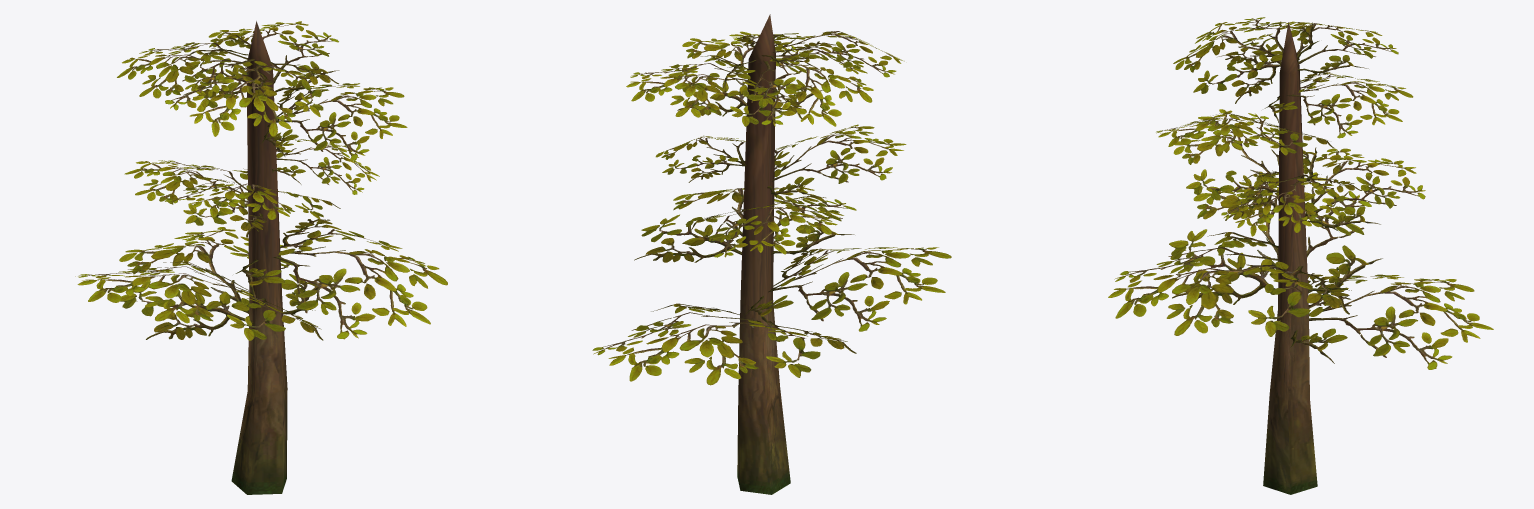
File: environment_Tree_yellow_003_a.FBX
The picture shows the model from 3 angles, left to right: view 1: azimuth 30°, elevation 25°; view 2: azimuth 150°, elevation 25°; view 3: azimuth 270°, elevation 25°; orthographic projection. The views are drawn at different scales.
Parts seen in each view (by area): view 1: environment_Tree_yellow_003_a, environment_Tree_yellow_003_b; view 2: environment_Tree_yellow_003_a, environment_Tree_yellow_003_b; view 3: environment_Tree_yellow_003_a, environment_Tree_yellow_003_b.
Part boxes in pixels (x1,y1,x2,y2): environment_Tree_yellow_003_a: (75, 21, 447, 340); environment_Tree_yellow_003_b: (231, 21, 287, 494); environment_Tree_yellow_003_a: (592, 31, 951, 385); environment_Tree_yellow_003_b: (737, 14, 790, 494); environment_Tree_yellow_003_a: (1108, 17, 1493, 369); environment_Tree_yellow_003_b: (1263, 22, 1317, 494).
Size of the model in its own units: 125 by 133 by 124.
